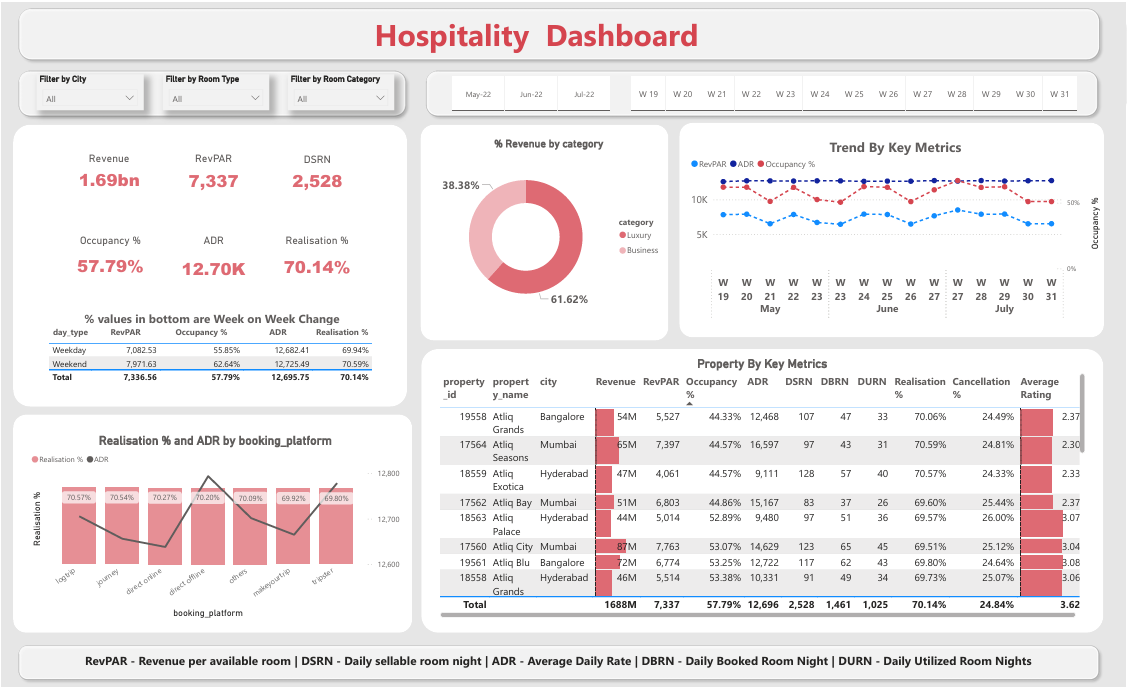

The dashboard page shown, as its layout file describes it:
{"tool":"powerbi","page":{"name":"Home","canvas":[1800,1100],"ordinal":0},"visuals":[{"type":"shape","box":[18.2,194.8,629.9,450.7],"z":0},{"type":"shape","box":[1083.9,191.8,679.1,343.3],"z":1000},{"type":"shape","box":[670.8,554.3,1091.4,453.4],"z":2000},{"type":"shape","box":[670.4,194.8,395.5,344.8],"z":3000},{"type":"shape","box":[18.2,659,637.3,349.3],"z":4000},{"type":"shape","box":[670,100,1091.7,90],"z":5000},{"type":"shape","box":[18.3,100.2,636.7,90],"z":6000},{"type":"tableEx","title":"Property By Key Metrics","fields":{"Values":["dim_hotels.property_id","dim_hotels.property_name","dim_hotels.city","Key_measure.Revenue","Key_measure.RevPAR","Key_measure.Occupancy %","Key_measure.ADR","Key_measure.DSRN","Key_measure.DBRN","Key_measure.DURN","Key_measure.Realisation %","Key_measure.Cancellation %"]},"box":[694.9,566.4,1043.1,422.4],"z":7000},{"type":"slicer","title":"Filter by City","fields":{"Values":["dim_hotels.city"]},"box":[55,114,171.7,58.3],"z":8000},{"type":"slicer","title":"Filter by Room Type","fields":{"Values":["dim_rooms.room_class"]},"box":[256.7,114,171.7,58.3],"z":9000},{"type":"slicer","fields":{"Values":["dim_date.mmm yy"]},"box":[695,110.2,301.7,70],"z":10000},{"type":"slicer","fields":{"Values":["dim_date.week no"]},"box":[981.7,110.2,761.7,70],"z":11000},{"type":"card","title":"Revenue","fields":{"Values":["Key_measure.Revenue"]},"box":[103.3,238.3,136.7,73.3],"z":12000},{"type":"donutChart","title":"% Revenue by category","fields":{"Y":["Key_measure.Revenue"],"Category":["dim_hotels.category"]},"box":[683.8,214.8,382,300],"z":13000},{"type":"lineStackedColumnComboChart","fields":{"Category":["fact_bookings.booking_platform"],"Y":["Key_measure.Realisation %"],"Y2":["Key_measure.ADR"]},"box":[42.1,688.8,598.5,300],"z":14000},{"type":"tableEx","title":"% values in bottom are Week on Week Change","fields":{"Values":["dim_date.day_type","Key_measure.RevPAR","Key_measure.Occupancy %","Key_measure.ADR","Key_measure.Realisation %"]},"box":[70,493.3,531.7,130],"z":15000},{"type":"card","title":"RevPAR","fields":{"Values":["Key_measure.RevPAR"]},"box":[267,238.3,143.3,75],"z":16000},{"type":"card","title":"DSRN","fields":{"Values":["Key_measure.DSRN"]},"box":[457.4,240,94.3,72.9],"z":17000},{"type":"card","title":"Occupancy %","fields":{"Values":["Key_measure.Occupancy %"]},"box":[90,370,166.7,85],"z":18000},{"type":"card","title":"ADR","fields":{"Values":["Key_measure.ADR"]},"box":[260.3,370,156.7,95],"z":19000},{"type":"card","title":"Realisation %","fields":{"Values":["Key_measure.Realisation %"]},"box":[428.3,370,151.7,88.3],"z":20000},{"type":"lineChart","title":"Trend By Key Metrics","fields":{"Category":["dim_date.date.Variation.Date Hierarchy.Month","dim_date.week no"],"Y":["Key_measure.RevPAR","Key_measure.ADR"],"Y2":["Key_measure.Occupancy %"]},"box":[1096.7,215,665,300],"z":21000},{"type":"shape","box":[18,1020,1746,72],"z":22000},{"type":"textbox","box":[128.3,1035,1545,43.3],"z":23000},{"type":"slicer","title":"Filter by Room Category","fields":{"Values":["dim_hotels.category"]},"box":[456.7,114,171.7,58.3],"z":24000},{"type":"shape","box":[18.3,0,1746.7,100],"z":25000},{"type":"textbox","box":[136.7,11.7,1463.3,76.7],"z":26000}]}

Visuals, with their boxes in screenshot pixels (x1, y1, x2, y2), scaled from the page's 1800x1100 canvas onto the 1127x687 screenshot:
shape: <bbox>11, 122, 406, 403</bbox>
shape: <bbox>679, 120, 1104, 334</bbox>
shape: <bbox>420, 346, 1103, 629</bbox>
shape: <bbox>420, 122, 667, 337</bbox>
shape: <bbox>11, 412, 410, 630</bbox>
shape: <bbox>419, 62, 1103, 119</bbox>
shape: <bbox>11, 63, 410, 119</bbox>
"Property By Key Metrics" tableEx: <bbox>435, 354, 1088, 618</bbox>
"Filter by City" slicer: <bbox>34, 71, 142, 108</bbox>
"Filter by Room Type" slicer: <bbox>161, 71, 268, 108</bbox>
slicer - dim_date.mmm yy: <bbox>435, 69, 624, 113</bbox>
slicer - dim_date.week no: <bbox>615, 69, 1092, 113</bbox>
"Revenue" card: <bbox>65, 149, 150, 195</bbox>
"% Revenue by category" donutChart: <bbox>428, 134, 667, 322</bbox>
lineStackedColumnComboChart - fact_bookings.booking_platform x Key_measure.Realisation %: <bbox>26, 430, 401, 618</bbox>
"% values in bottom are Week on Week Change" tableEx: <bbox>44, 308, 377, 389</bbox>
"RevPAR" card: <bbox>167, 149, 257, 196</bbox>
"DSRN" card: <bbox>286, 150, 345, 195</bbox>
"Occupancy %" card: <bbox>56, 231, 161, 284</bbox>
"ADR" card: <bbox>163, 231, 261, 290</bbox>
"Realisation %" card: <bbox>268, 231, 363, 286</bbox>
"Trend By Key Metrics" lineChart: <bbox>687, 134, 1103, 322</bbox>
shape: <bbox>11, 637, 1104, 682</bbox>
textbox: <bbox>80, 646, 1048, 673</bbox>
"Filter by Room Category" slicer: <bbox>286, 71, 393, 108</bbox>
shape: <bbox>11, 0, 1105, 62</bbox>
textbox: <bbox>86, 7, 1002, 55</bbox>
